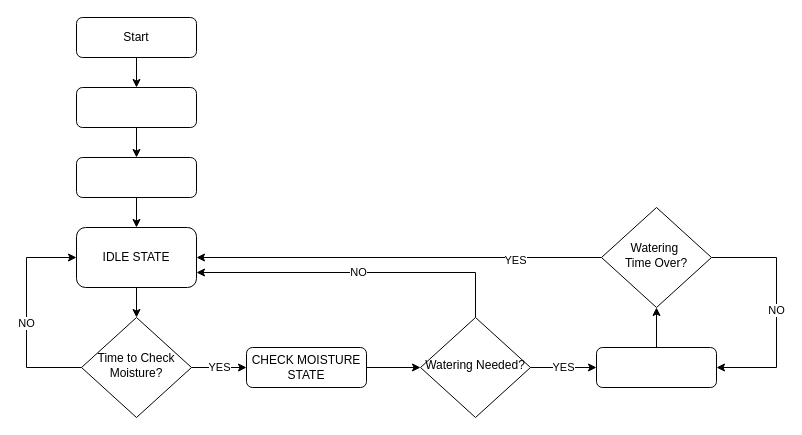
Some shapes in this 802 by 435 pixel diagram are drawn without their labels. Each missing label, with the centre of its shape:
"Configuration" belongs at (x=136, y=107).
"Initialization" belongs at (x=136, y=177).
"WATERING STATE" belongs at (x=656, y=367).
